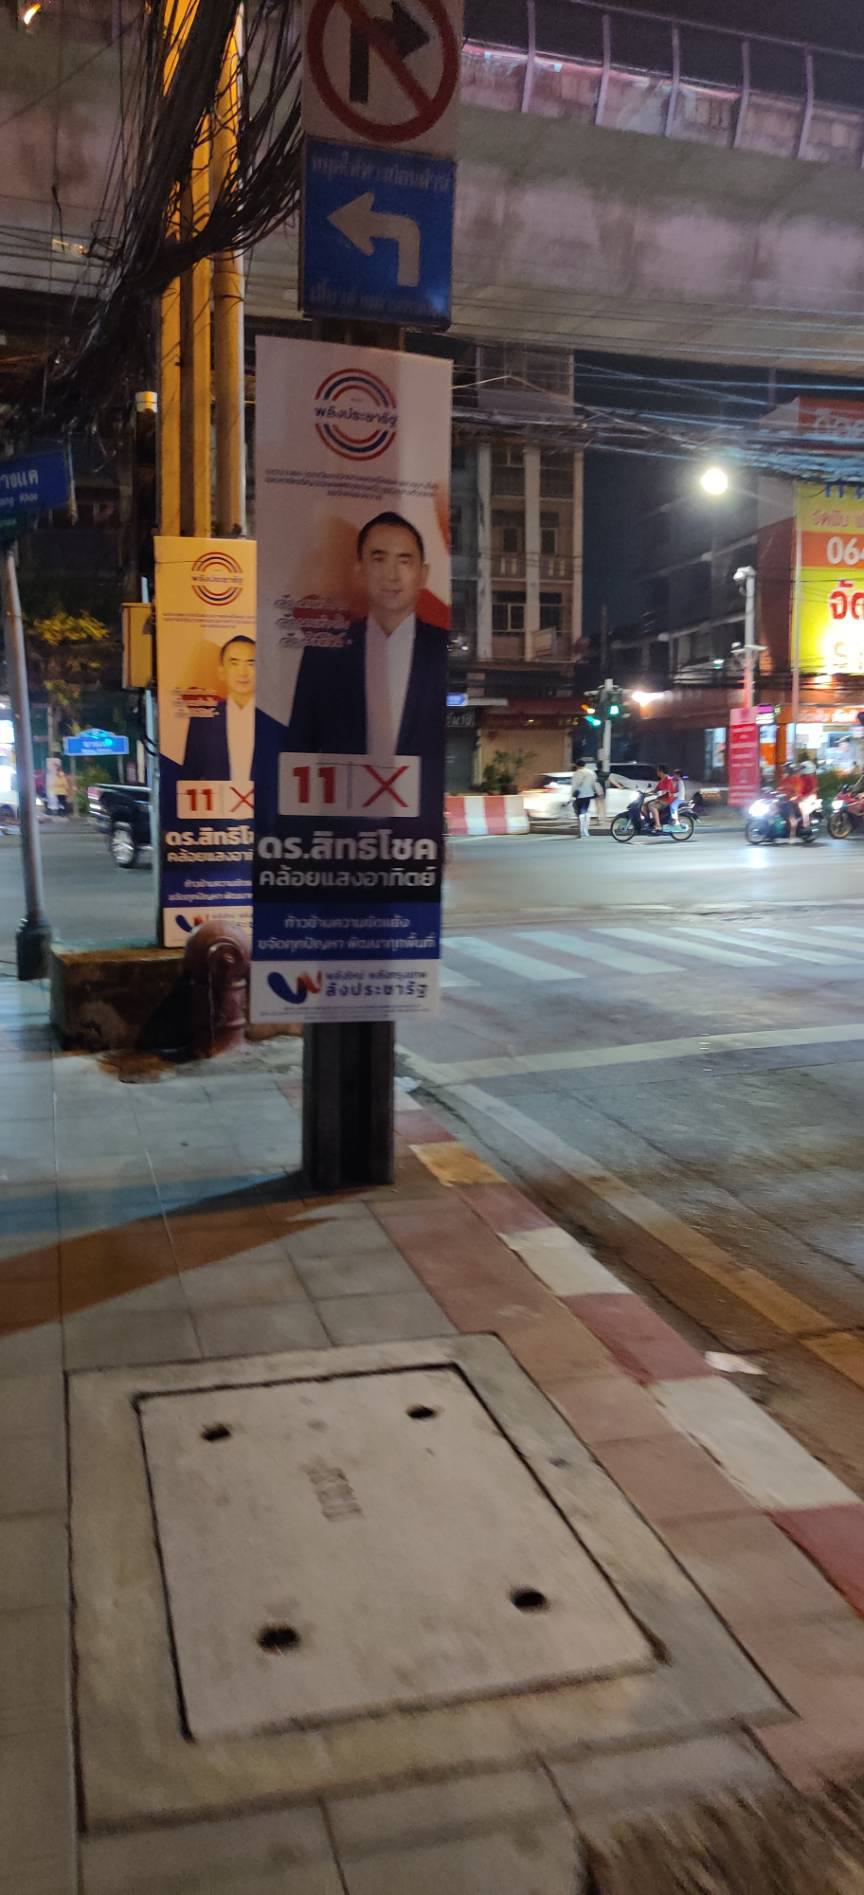Banner: (247, 340, 443, 1033), (153, 539, 259, 935)
